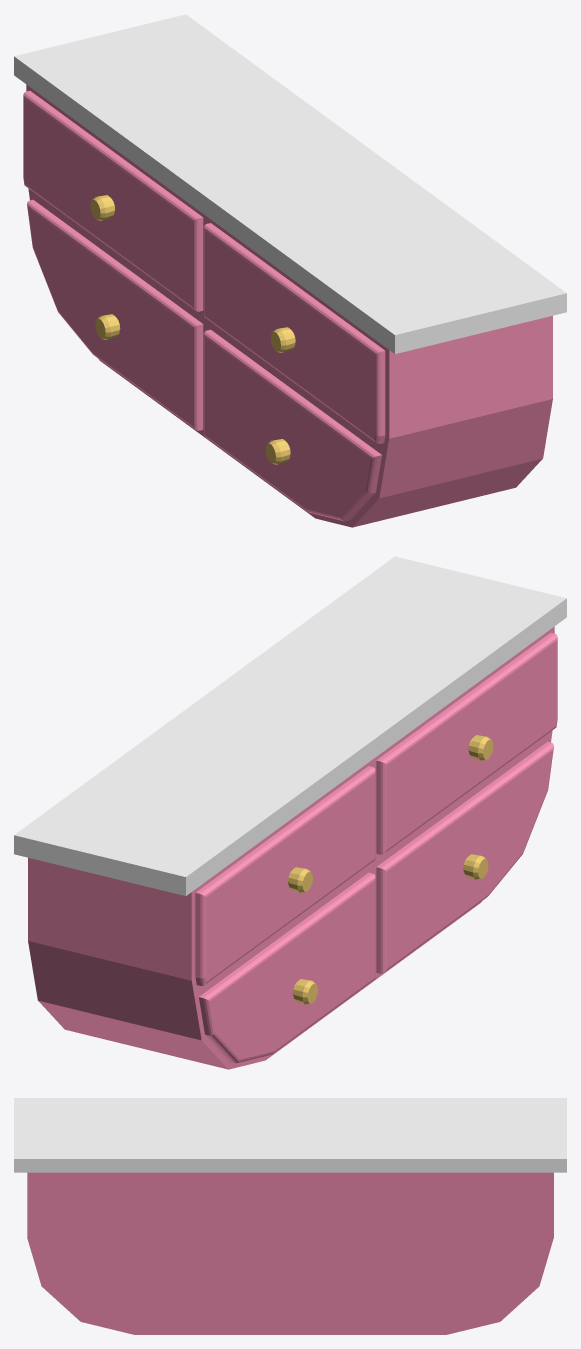
File: Wardrobe_10.fbx
The picture shows the model from 3 angles, top to bottom: view 1: azimuth 30°, elevation 25°; view 2: azimuth 150°, elevation 25°; view 3: azimuth 270°, elevation 25°; orthographic projection. The views are drawn at different scales.
Visible parts, largest first — view 1: Wardrobe_10, Wardrobe_10 Door_2, Wardrobe_10 Door_4, Wardrobe_10 Door_3, Wardrobe_10 Door_1; view 2: Wardrobe_10, Wardrobe_10 Door_1, Wardrobe_10 Door_2, Wardrobe_10 Door_3, Wardrobe_10 Door_4; view 3: Wardrobe_10.
Part boxes in pixels (x1,y1,x2,y2): Wardrobe_10: (14, 14, 566, 527); Wardrobe_10 Door_2: (204, 223, 385, 443); Wardrobe_10 Door_4: (27, 199, 203, 430); Wardrobe_10 Door_3: (23, 90, 203, 311); Wardrobe_10 Door_1: (204, 329, 381, 521); Wardrobe_10: (14, 556, 566, 1069); Wardrobe_10 Door_1: (376, 741, 553, 973); Wardrobe_10 Door_2: (376, 632, 557, 854); Wardrobe_10 Door_3: (195, 766, 375, 985); Wardrobe_10 Door_4: (199, 872, 375, 1063); Wardrobe_10: (14, 1098, 566, 1334).
Size of the model in its own units: 0.441 by 0.5367 by 1.51.
